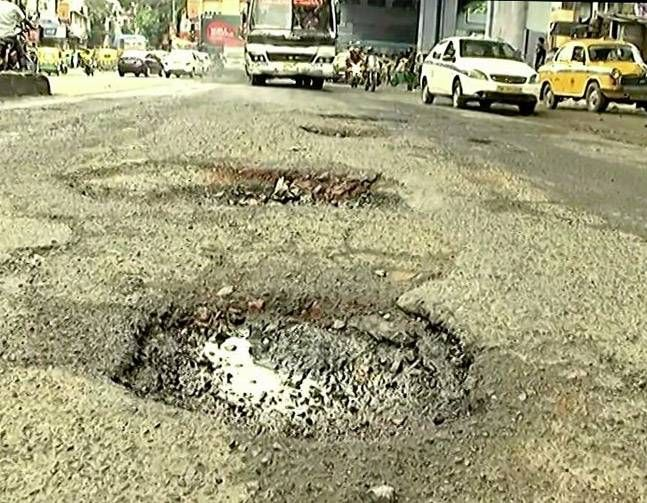pothole: (132, 272, 482, 460), (88, 133, 392, 231), (290, 108, 386, 142), (461, 122, 525, 160)
